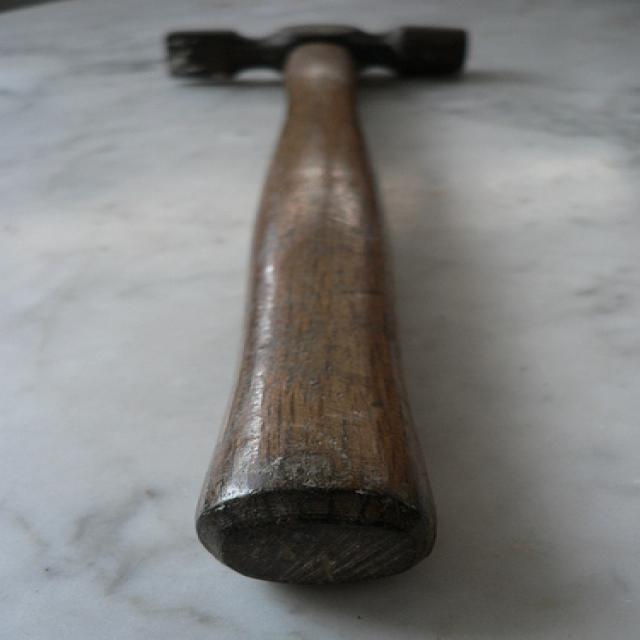hammer: (147, 9, 493, 596)
